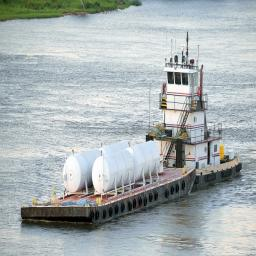tugboat: (145, 31, 245, 201)
